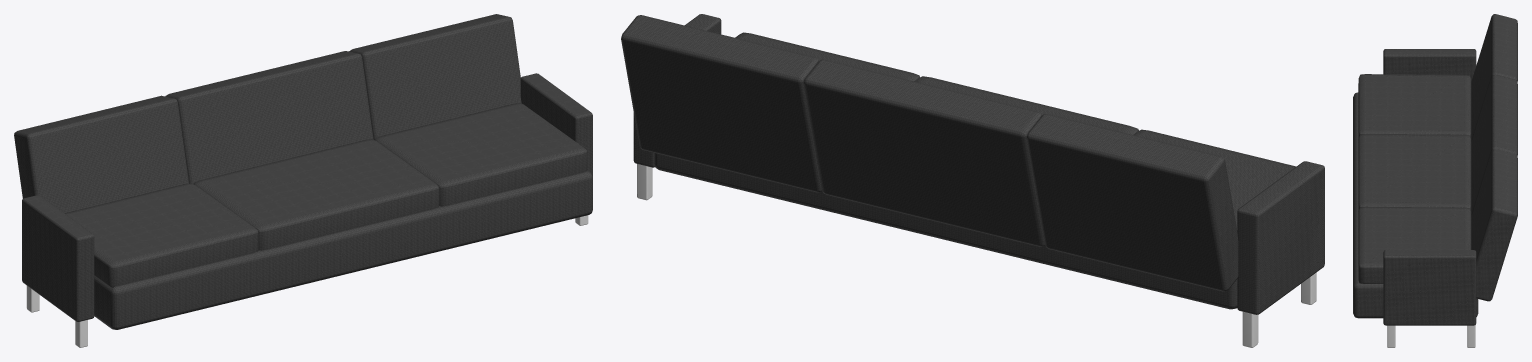
File: couch.fbx
The picture shows the model from 3 angles, left to right: view 1: azimuth 30°, elevation 25°; view 2: azimuth 150°, elevation 25°; view 3: azimuth 270°, elevation 25°; orthographic projection. The views are drawn at different scales.
Parts seen in each view (by area): view 1: Cube.006; view 2: Cube.006; view 3: Cube.006.
Boxes of the visible parts, box(x1,y1,x2,y2) form: Cube.006: box(14, 14, 592, 347); Cube.006: box(621, 14, 1324, 347); Cube.006: box(1353, 14, 1517, 347).
Size of the model in its own units: 559 by 169 by 187.
